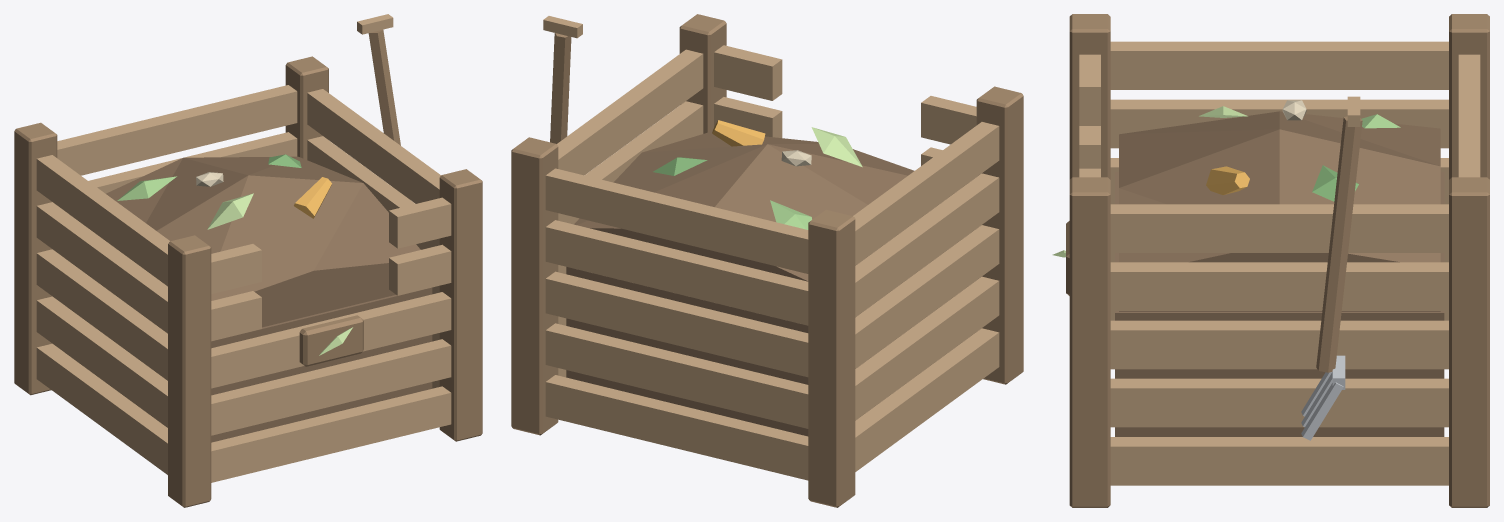
Rendered from prop_compost.glb.
3 views of the same model, side by side, from view 1: azimuth 30°, elevation 25°; view 2: azimuth 150°, elevation 25°; view 3: azimuth 270°, elevation 25° (orthographic). The views are drawn at different scales.
Parts seen in each view (by area): view 1: prop_compost; view 2: prop_compost; view 3: prop_compost.
Boxes of the visible parts, x1,y1,x2,y2 form: prop_compost: (14,14,482,507); prop_compost: (511,14,1023,507); prop_compost: (1052,14,1489,507).
Size of the model in its own units: 0.7084 by 0.637 by 0.621.
